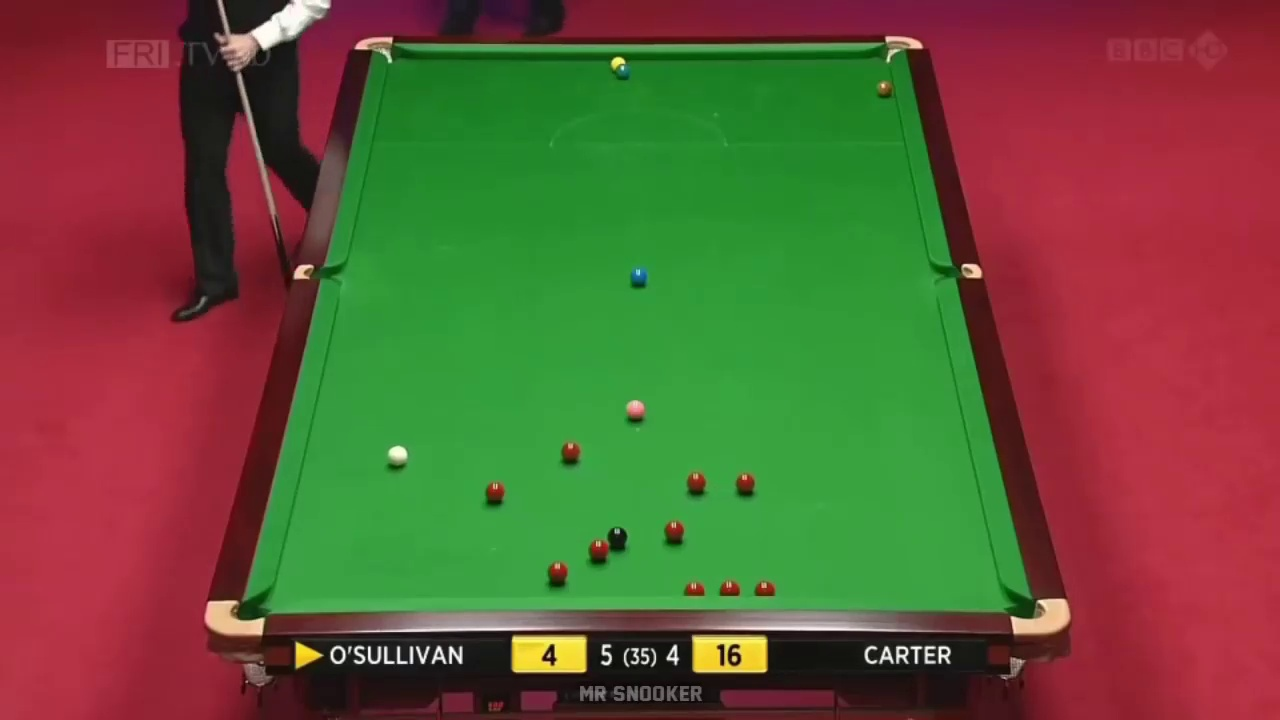black: (608, 529, 628, 548)
blue: (630, 268, 646, 285)
brown: (873, 78, 895, 97)
green: (617, 63, 630, 76)
pink: (628, 401, 645, 422)
red: (545, 560, 568, 582), (587, 538, 608, 561), (562, 440, 581, 463), (688, 471, 707, 494), (484, 481, 505, 501), (664, 520, 684, 541), (736, 475, 755, 494)
white: (389, 448, 411, 464)
